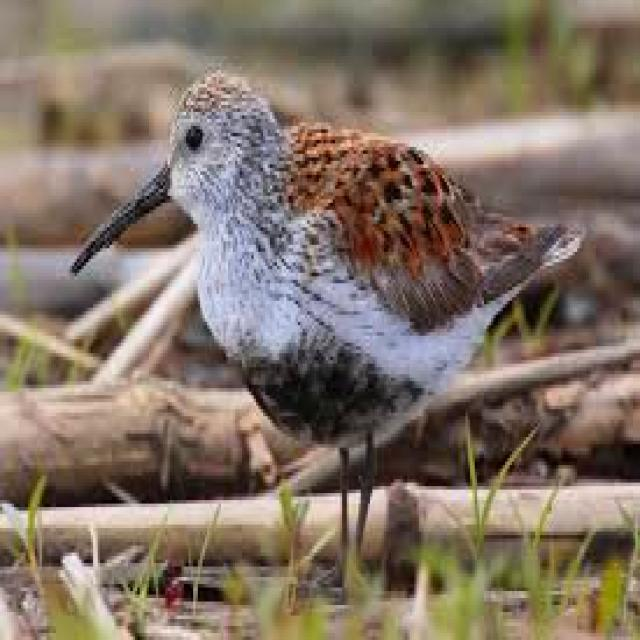sandpiper: (70, 70, 582, 570)
